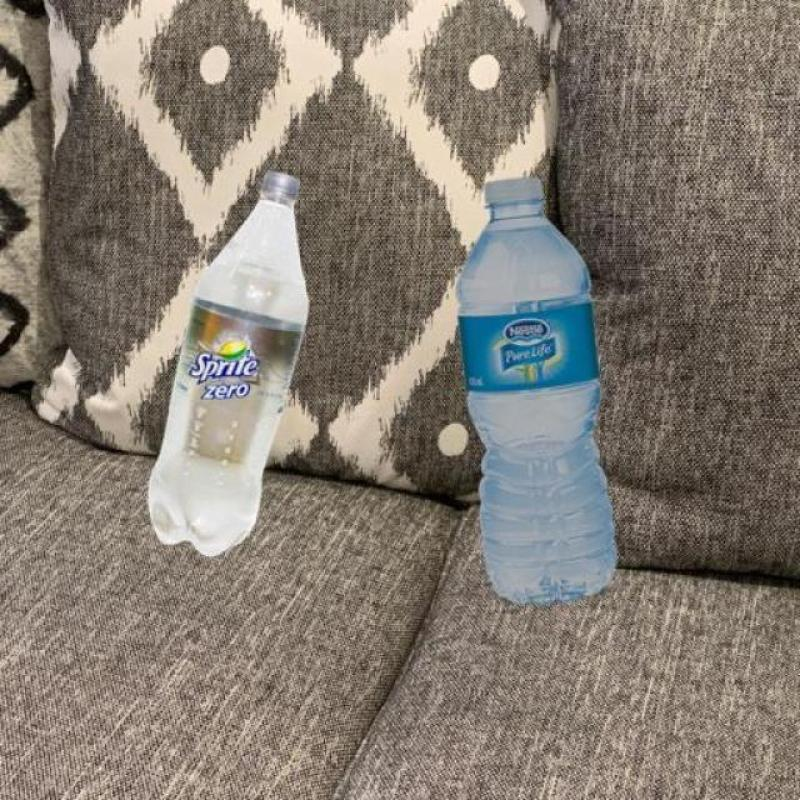botella: (458, 180, 622, 604), (142, 170, 312, 562)
